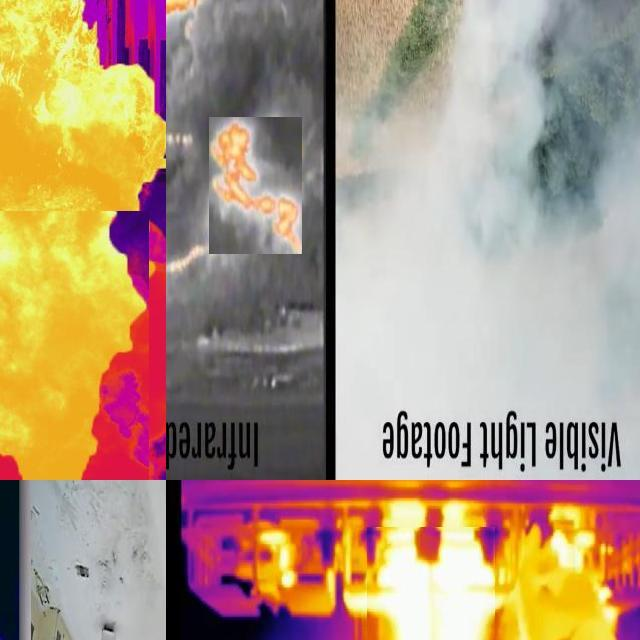fire: (1, 2, 166, 482), (368, 546, 500, 640)
